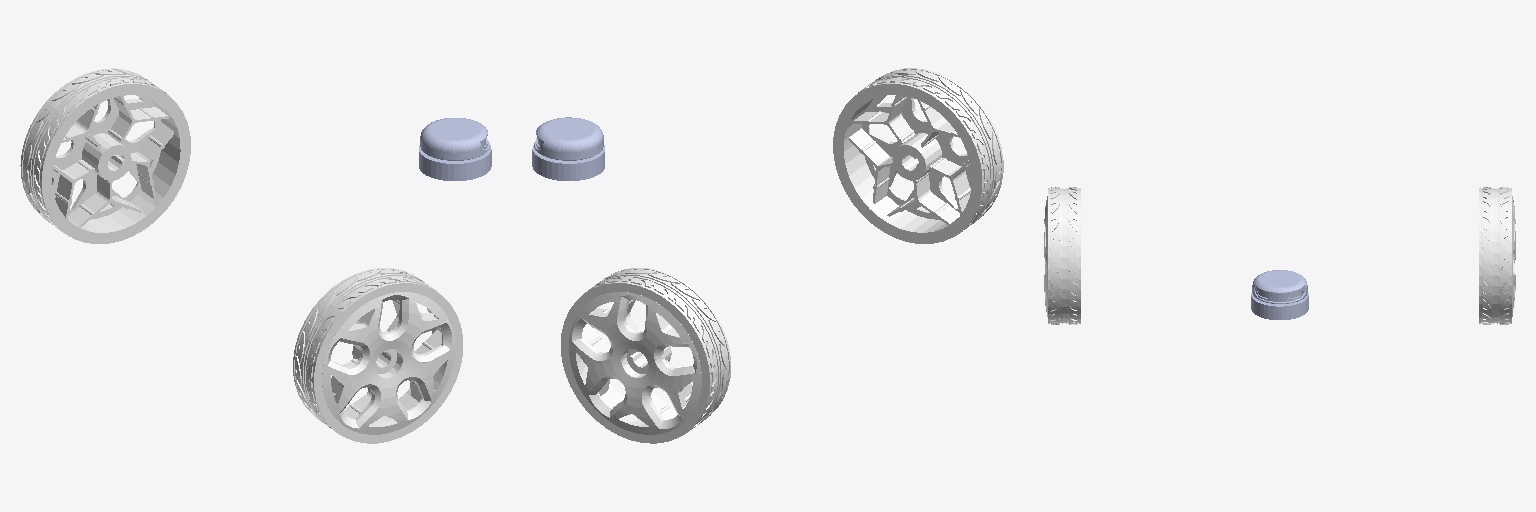
The robot description file, URDF, robot "robot_agv":
<?xml version="1.0" encoding="utf-8"?>
<!-- This URDF was automatically created by SolidWorks to URDF Exporter! Originally created by Stephen Brawner (brawner@gmail.com) 
     Commit Version: 1.6.0-1-g15f4949  Build Version: 1.6.7594.29634
     For more information, please see http://wiki.ros.org/sw_urdf_exporter -->
<robot
  name="robot_agv">
  <link
    name="base_link">
    <inertial>
      <origin
        xyz="-0.0364673867159232 0.00994362054587777 -0.0189266459007073"
        rpy="0 0 0" />
      <mass
        value="16.0340472581944" />
      <inertia
        ixx="0.136376116454582"
        ixy="2.91828801419719E-05"
        ixz="-0.000573728014806226"
        iyy="0.158239100476555"
        iyz="-0.000385906670910775"
        izz="0.281184977319115" />
    </inertial>
    <visual>
      <origin
        xyz="0 0 0"
        rpy="0 0 0" />
      <geometry>
        <mesh
          filename="package://robot_agv/meshes/base_link.STL" />
      </geometry>
      <material
        name="">
        <color
          rgba="1 1 1 1" />
      </material>
    </visual>
    <collision>
      <origin
        xyz="0 0 0"
        rpy="0 0 0" />
      <geometry>
        <mesh
          filename="package://robot_agv/meshes/base_link.STL" />
      </geometry>
    </collision>
  </link>
  <link
    name="l_wheel_link">
    <inertial>
      <origin
        xyz="6.83850143717857E-05 -0.0180873255737881 -0.000237375082620429"
        rpy="0 0 0" />
      <mass
        value="0.470718555403678" />
      <inertia
        ixx="0.00131413974953644"
        ixy="-7.35341936005318E-08"
        ixz="3.08855933295298E-06"
        iyy="0.00246793270900713"
        iyz="-1.86855660685598E-08"
        izz="0.00130630989926239" />
    </inertial>
    <visual>
      <origin
        xyz="0 0 0"
        rpy="0 0 0" />
      <geometry>
        <mesh
          filename="package://robot_agv/meshes/l_wheel_link.STL" />
      </geometry>
      <material
        name="">
        <color
          rgba="1 1 1 1" />
      </material>
    </visual>
    <collision>
      <origin
        xyz="0 0 0"
        rpy="0 0 0" />
      <geometry>
        <mesh
          filename="package://robot_agv/meshes/l_wheel_link.STL" />
      </geometry>
    </collision>
  </link>
  <joint
    name="l_wheel_joint"
    type="continuous">
    <origin
      xyz="0 0.306078558607017 -0.112699999999999"
      rpy="0 0 0" />
    <parent
      link="base_link" />
    <child
      link="l_wheel_link" />
    <axis
      xyz="0 -1 0" />
    <limit
      lower="0"
      upper="0"
      effort="0"
      velocity="0" />
  </joint>
  <link
    name="r_wheel_link">
    <inertial>
      <origin
        xyz="-9.1854011582515E-05 0.0180871779217427 -0.000229201831995495"
        rpy="0 0 0" />
      <mass
        value="0.470720243182658" />
      <inertia
        ixx="0.00131344405865144"
        ixy="-7.12726212459295E-08"
        ixz="-3.80817807805258E-06"
        iyy="0.00246793269921111"
        iyz="2.59651647807631E-08"
        izz="0.00130700557976274" />
    </inertial>
    <visual>
      <origin
        xyz="0 0 0"
        rpy="0 0 0" />
      <geometry>
        <mesh
          filename="package://robot_agv/meshes/r_wheel_link.STL" />
      </geometry>
      <material
        name="">
        <color
          rgba="1 1 1 1" />
      </material>
    </visual>
    <collision>
      <origin
        xyz="0 0 0"
        rpy="0 0 0" />
      <geometry>
        <mesh
          filename="package://robot_agv/meshes/r_wheel_link.STL" />
      </geometry>
    </collision>
  </link>
  <joint
    name="r_wheel_joint"
    type="continuous">
    <origin
      xyz="0 -0.306078558607018 -0.112699999999999"
      rpy="0 0 0" />
    <parent
      link="base_link" />
    <child
      link="r_wheel_link" />
    <axis
      xyz="0 -1 0" />
    <limit
      lower="0"
      upper="0"
      effort="0"
      velocity="0" />
  </joint>
  <link
    name="lidar_link">
    <inertial>
      <origin
        xyz="-0.000441400133802117 3.7319416279491E-08 0.0200216268079959"
        rpy="0 0 0" />
      <mass
        value="0.171383863253783" />
      <inertia
        ixx="8.19875205520358E-05"
        ixy="-9.40378839496888E-11"
        ixz="8.55254729862329E-07"
        iyy="8.10642312571806E-05"
        iyz="-1.43184344817468E-11"
        izz="0.000113024980828819" />
    </inertial>
    <visual>
      <origin
        xyz="0 0 0"
        rpy="0 0 0" />
      <geometry>
        <mesh
          filename="package://robot_agv/meshes/lidar_link.STL" />
      </geometry>
      <material
        name="">
        <color
          rgba="0.792156862745098 0.819607843137255 0.933333333333333 1" />
      </material>
    </visual>
    <collision>
      <origin
        xyz="0 0 0"
        rpy="0 0 0" />
      <geometry>
        <mesh
          filename="package://robot_agv/meshes/lidar_link.STL" />
      </geometry>
    </collision>
  </link>
  <joint
    name="lidar_joint"
    type="fixed">
    <origin
      xyz="0.2561317 0 -0.0689999999999949"
      rpy="0 0 0" />
    <parent
      link="base_link" />
    <child
      link="lidar_link" />
    <axis
      xyz="0 0 0" />
  </joint>
</robot>

--- What the picture shows (computed from the rendered views, not written in the file) ---
The picture shows the robot from 3 angles, left to right: view 1: azimuth 30°, elevation 25°; view 2: azimuth 150°, elevation 25°; view 3: azimuth 270°, elevation 25°; orthographic projection.
Model robot_agv with 4 links and 3 joints (2 continuous, 1 fixed), rooted at base_link, posed every joint at zero.
Visible links, largest first — view 1: l_wheel_link, r_wheel_link, lidar_link; view 2: r_wheel_link, l_wheel_link, lidar_link; view 3: l_wheel_link, r_wheel_link, lidar_link.
Link boxes in pixels (<box>): l_wheel_link: <box>20,68,190,243</box>; r_wheel_link: <box>293,268,462,443</box>; lidar_link: <box>419,118,491,180</box>; r_wheel_link: <box>833,68,1003,243</box>; l_wheel_link: <box>561,268,730,443</box>; lidar_link: <box>532,117,604,180</box>; l_wheel_link: <box>1479,187,1515,324</box>; r_wheel_link: <box>1044,187,1080,324</box>; lidar_link: <box>1251,270,1308,319</box>.
Bounding box of the posed robot: 0.3844 × 0.6191 × 0.1807 m (x, y, z).
3 mesh visuals loaded from 4 distinct referenced files (3 binary STL); not drawn: 1 (reference not matched to a file when rendering).
